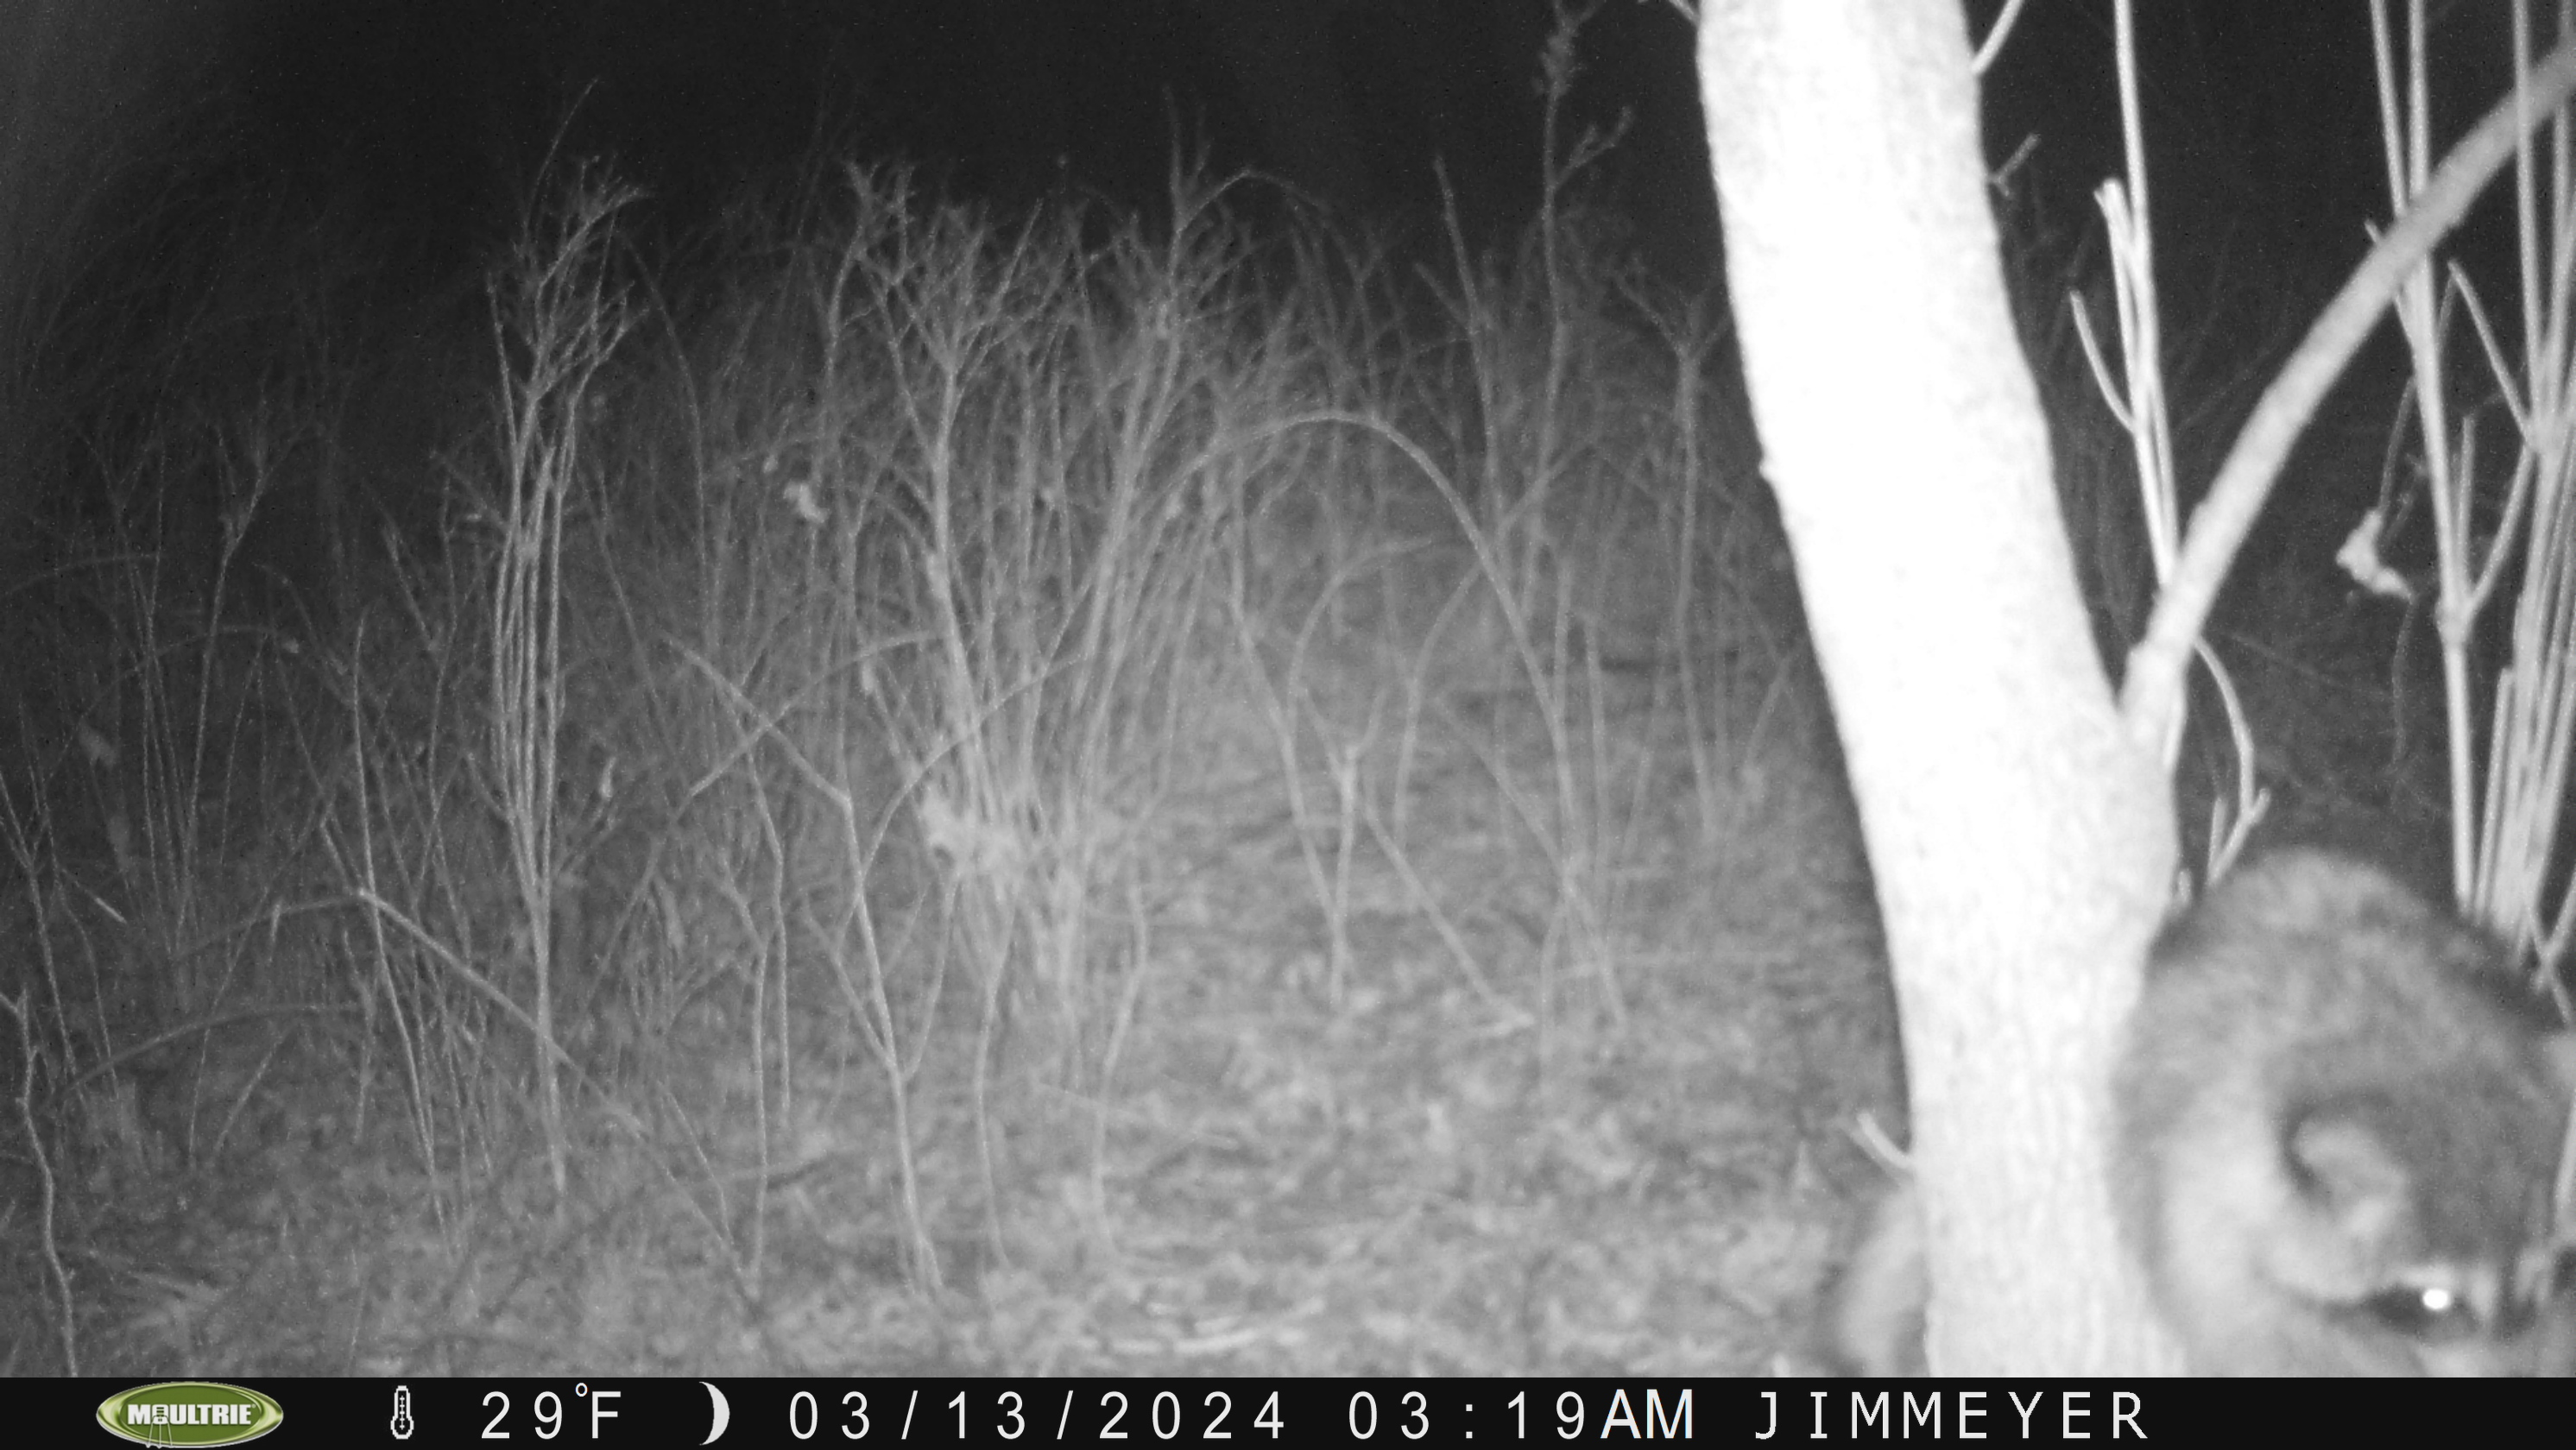Raccoon: (1815, 835, 2576, 1377)
